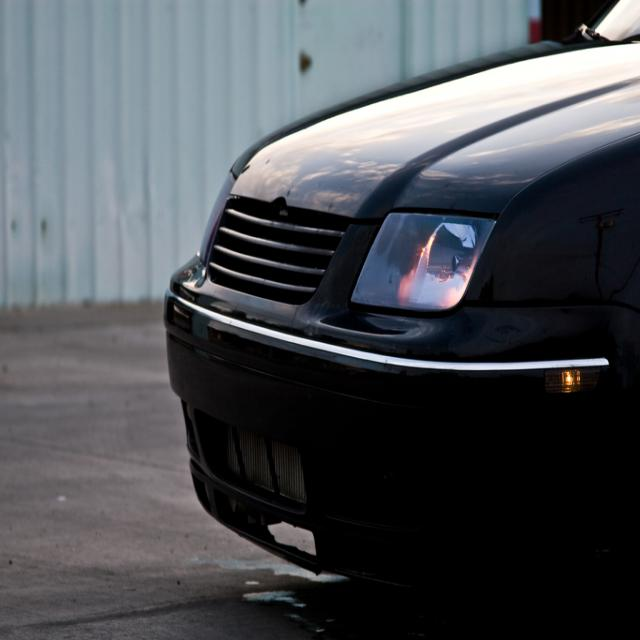other: (152, 8, 620, 580)
